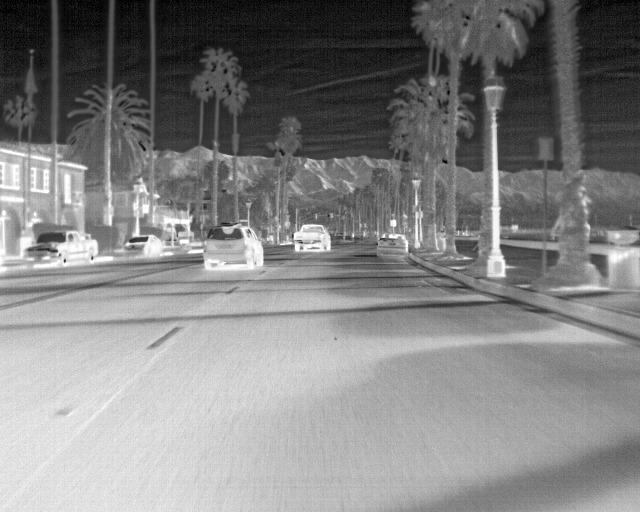car: (203, 222, 264, 269), (25, 231, 99, 266), (294, 224, 332, 251), (123, 234, 162, 258), (378, 233, 408, 257)
light: (330, 213, 333, 218), (315, 214, 317, 219)
sign: (539, 137, 553, 161), (285, 221, 290, 226), (392, 220, 396, 226)
